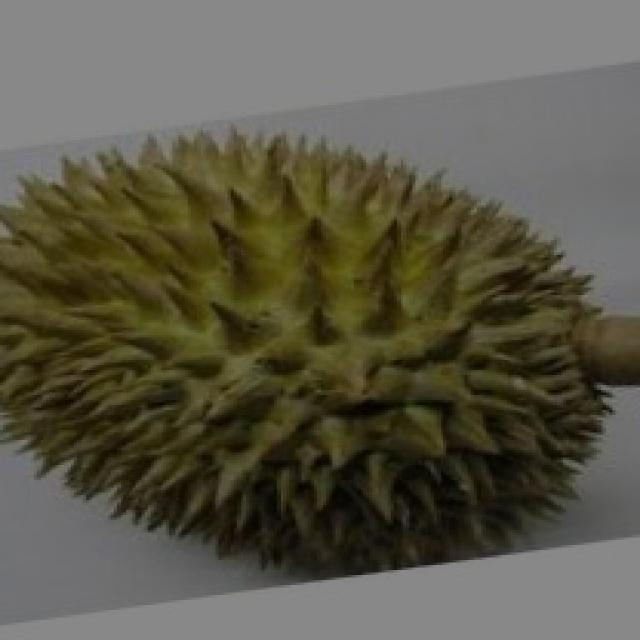fruit: (249, 142, 640, 562), (0, 215, 375, 600)
